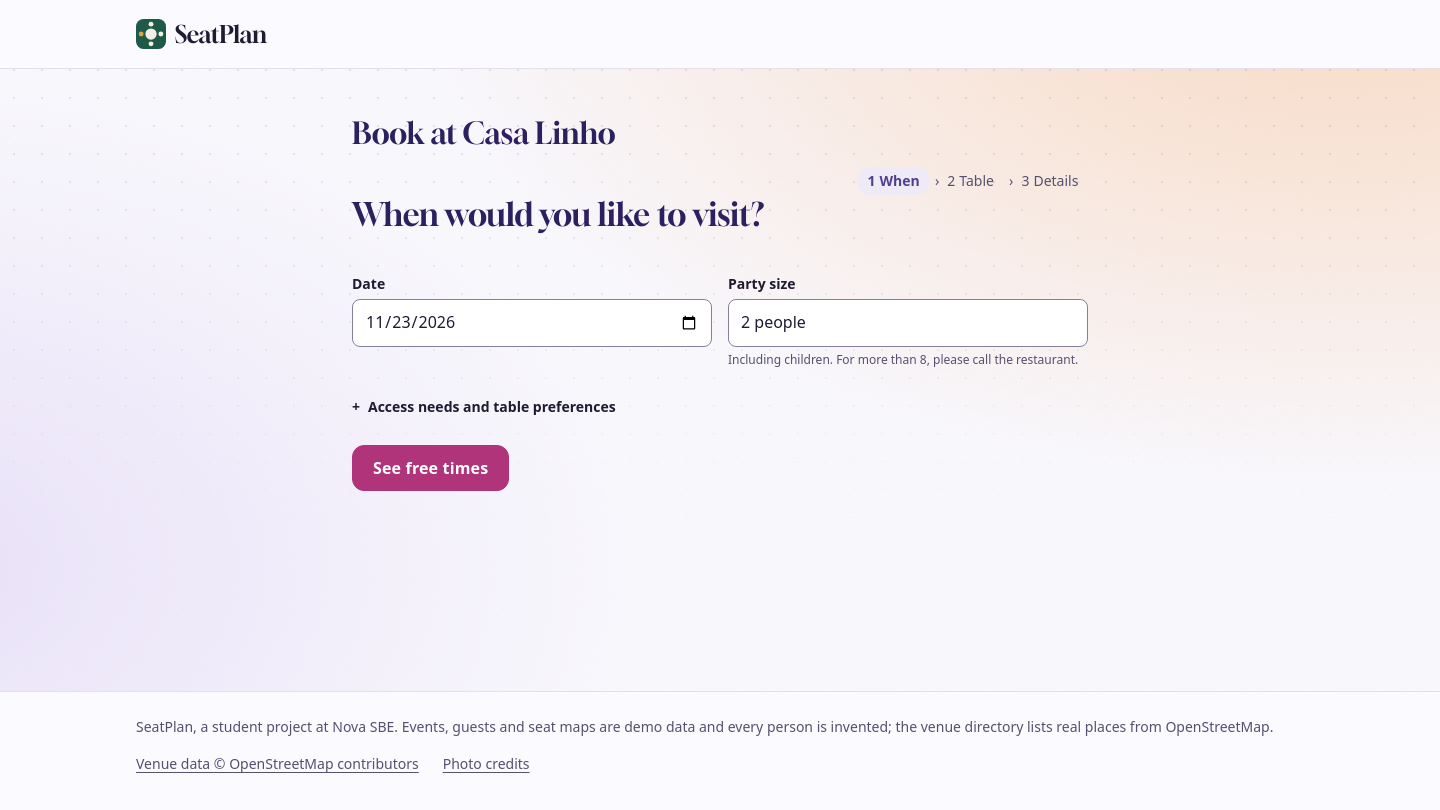
Test: Booking page › sends a full slot to the waitlist and shows position and wait
Click the button "See free times": (431, 468) 352,445 -> 509,491
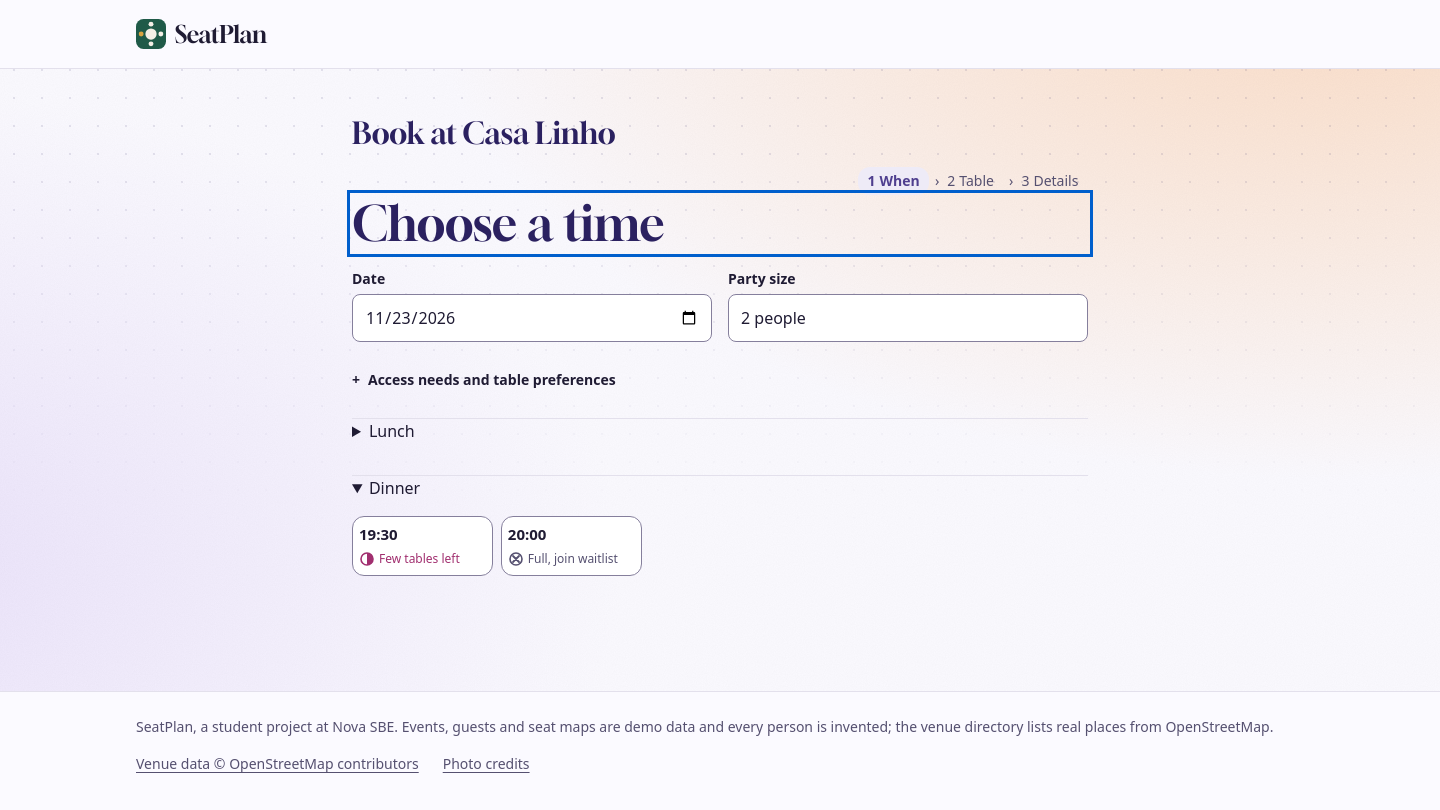
Expected: the button "20:00 Full, join waitlist" is shown
Click the button "20:00 Full, join waitlist": (571, 546) 501,516 -> 642,576
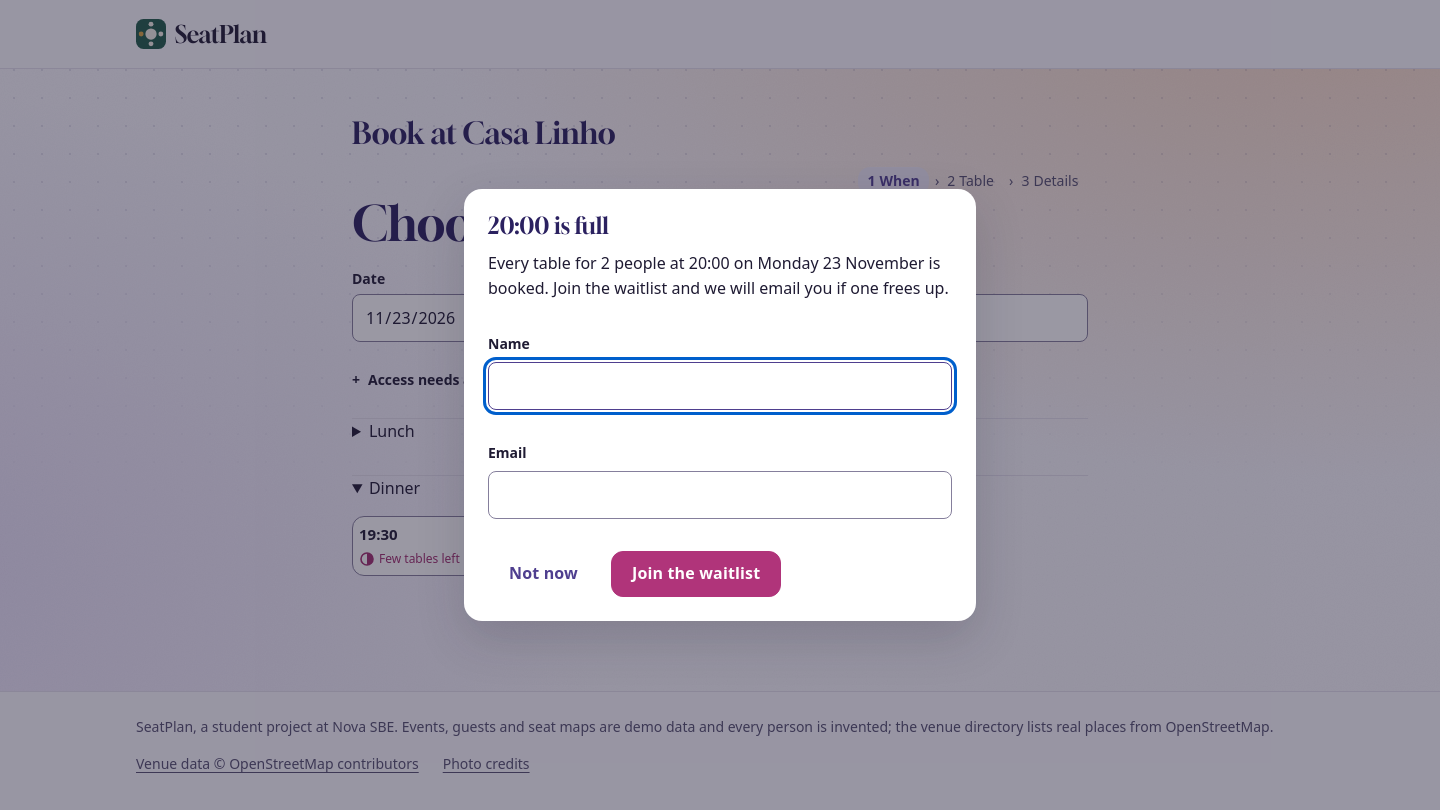
In the field labelled "Name": (720, 386) 488,362 -> 952,410, type "Rui Costa"
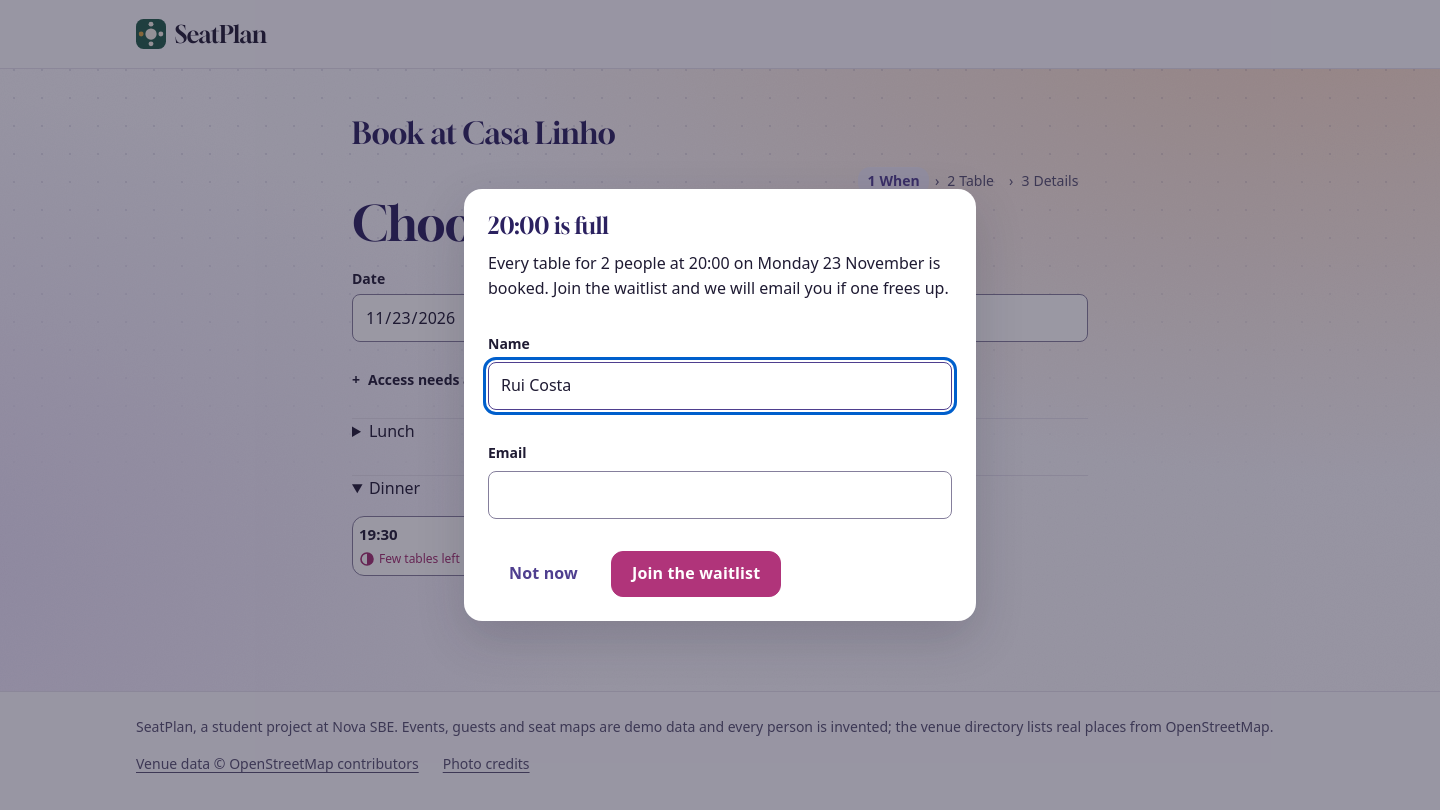
In the field labelled "Email": (720, 495) 488,471 -> 952,519, type "rui@example.com"
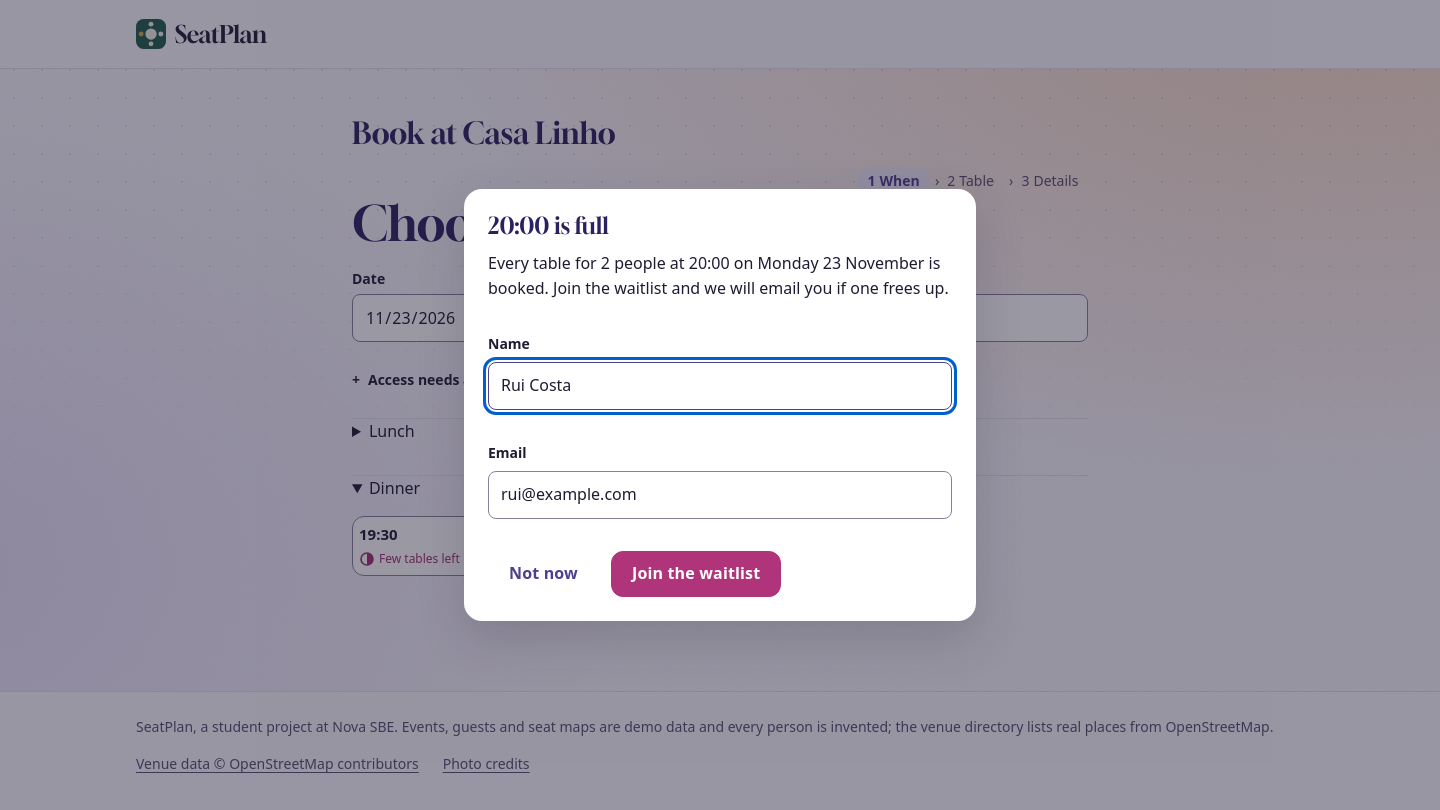
Click the button "Join the waitlist": (696, 574) 611,551 -> 781,597
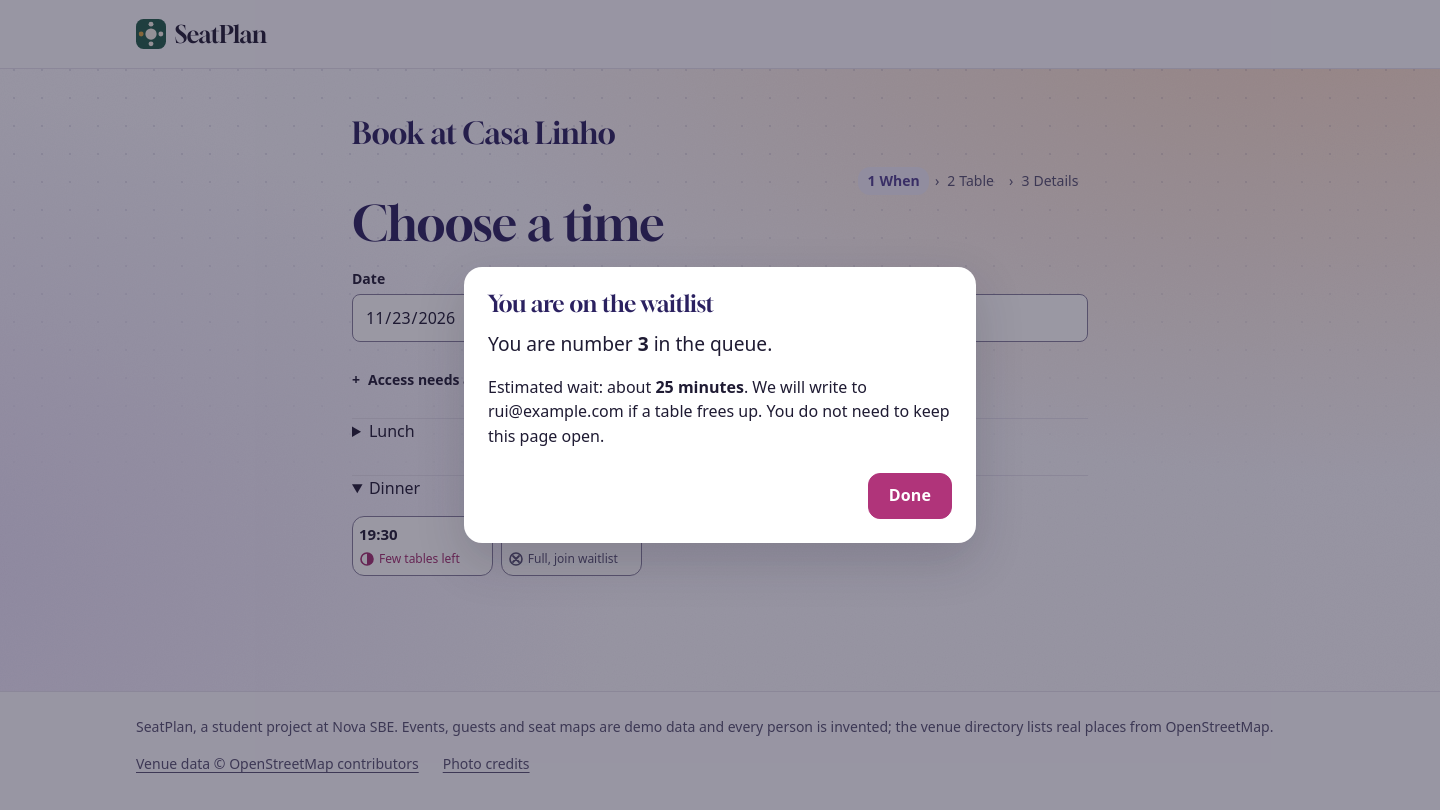
Expected: the dialog "You are on the waitlist" is shown, 464,267 -> 976,543
Expected: the text "You are number 3 in the queue." is shown, 488,330 -> 772,357
Expected: the text "about" shows "25 minutes", 488,375 -> 952,449
